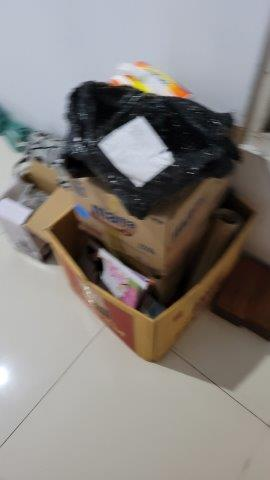kardus: (9, 170, 257, 365)
kertas: (100, 115, 171, 189)
